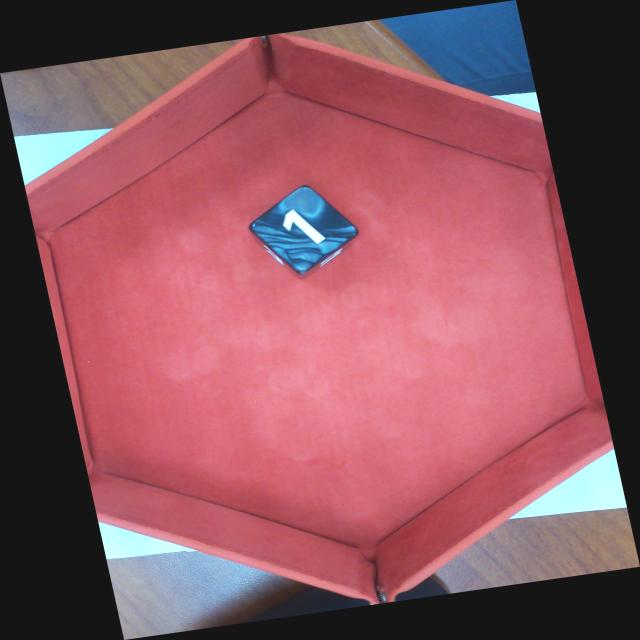dice: (243, 180, 362, 279)
